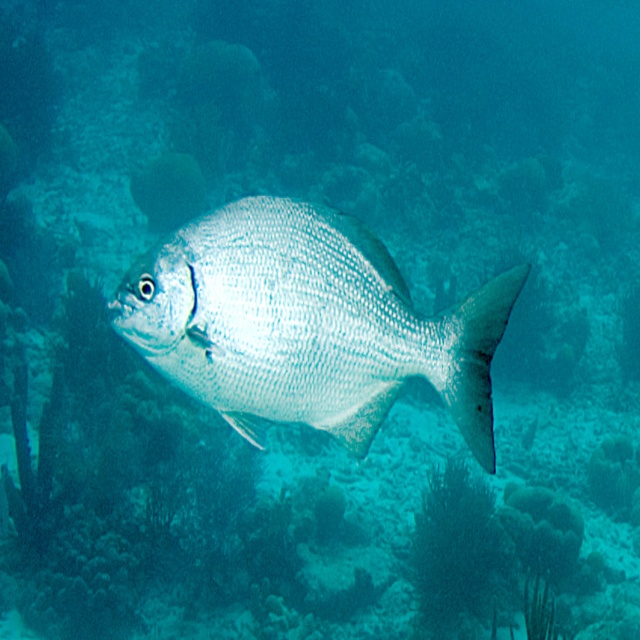Fish: (110, 184, 540, 487)
